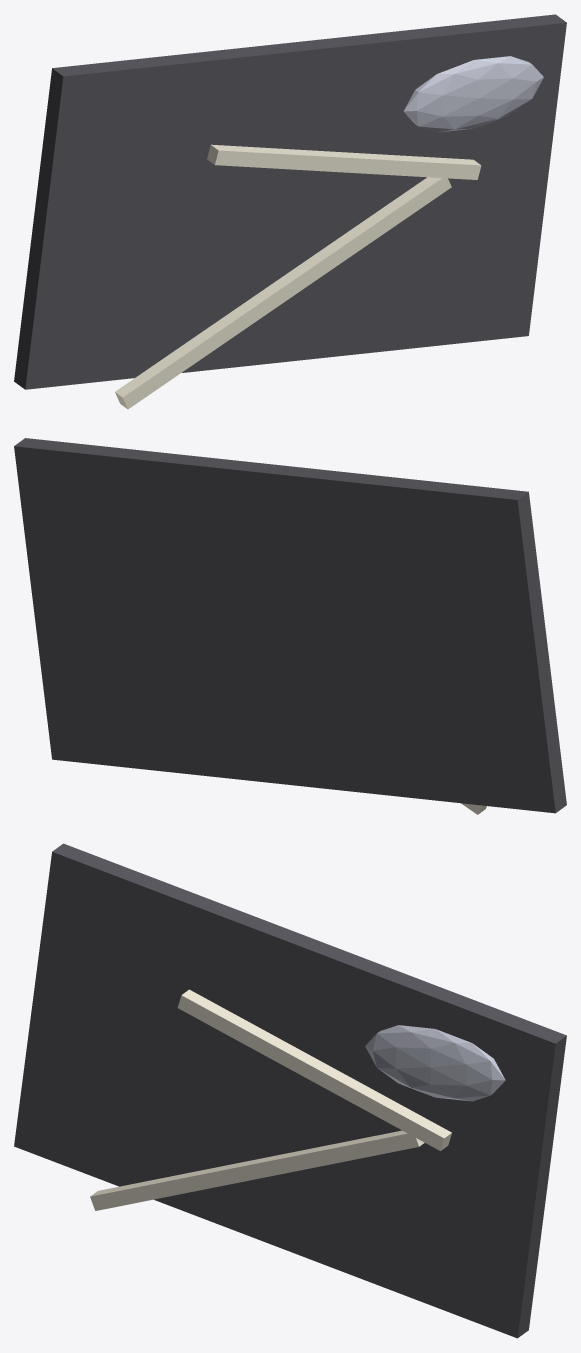
The model's file is 02_weathering_wear_overlay_2.glb.
3 views of the same model, one above another, from view 1: azimuth 30°, elevation 25°; view 2: azimuth 150°, elevation 25°; view 3: azimuth 330°, elevation 25° (orthographic).
Visible parts, largest first — view 1: wear_plate, scratch_a, rust_or_moss_spot, scratch_b; view 2: wear_plate; view 3: wear_plate, rust_or_moss_spot, scratch_b, scratch_a.
Part boxes in pixels (x1,y1,x2,y2): wear_plate: (14, 14, 566, 389); scratch_a: (115, 177, 451, 409); rust_or_moss_spot: (403, 56, 543, 132); scratch_b: (207, 144, 481, 179); wear_plate: (14, 438, 566, 813); wear_plate: (14, 843, 566, 1338); rust_or_moss_spot: (365, 1025, 505, 1101); scratch_b: (177, 989, 451, 1150); scratch_a: (90, 1130, 424, 1210).
Size of the model in its own units: 1.39 by 0.9127 by 0.134.
